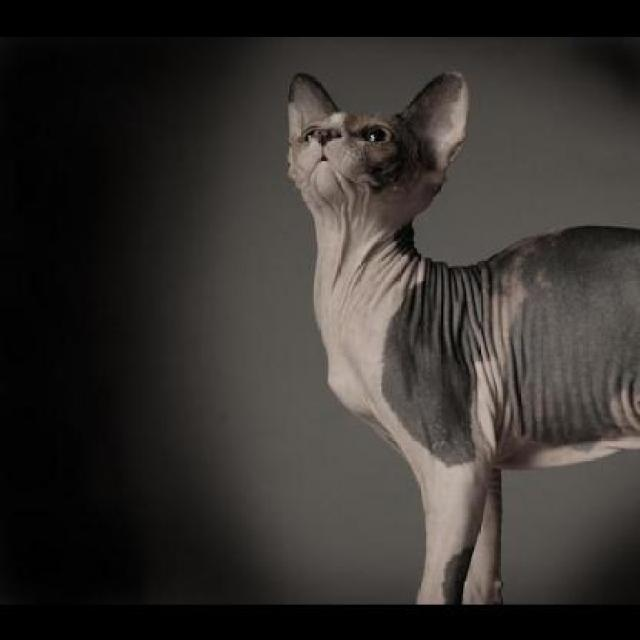unauthorized: (283, 68, 639, 604)
